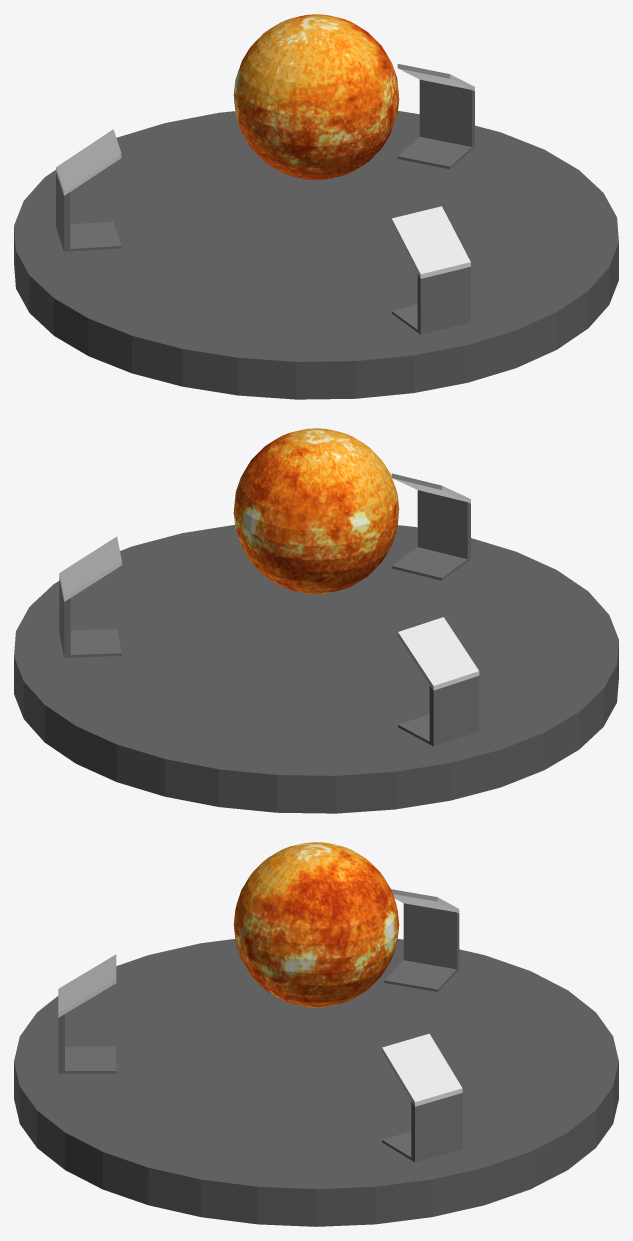
The model's file is exploratorium-v3.fbx.
3 renders of one model, top to bottom at view 1: azimuth 30°, elevation 25°; view 2: azimuth 150°, elevation 25°; view 3: azimuth 270°, elevation 25°, orthographic.
Visible parts, largest first — view 1: dais, Sphere, display, display.002, display.001; view 2: dais, Sphere, display.001, display, display.002; view 3: dais, Sphere, display.002, display.001, display.
Part boxes in pixels (bbox=[...]): dais: bbox=[14, 111, 618, 399]; Sphere: bbox=[233, 14, 399, 179]; display: bbox=[391, 206, 470, 334]; display.002: bbox=[397, 64, 474, 169]; display.001: bbox=[56, 129, 121, 251]; dais: bbox=[14, 525, 618, 813]; Sphere: bbox=[233, 428, 399, 593]; display.001: bbox=[398, 617, 479, 746]; display: bbox=[391, 473, 470, 580]; display.002: bbox=[59, 536, 121, 657]; dais: bbox=[14, 939, 618, 1226]; Sphere: bbox=[233, 842, 399, 1007]; display.002: bbox=[382, 1033, 462, 1162]; display.001: bbox=[384, 889, 459, 991]; display: bbox=[58, 954, 116, 1073].
Size of the model in its own units: 731 by 332 by 731.
